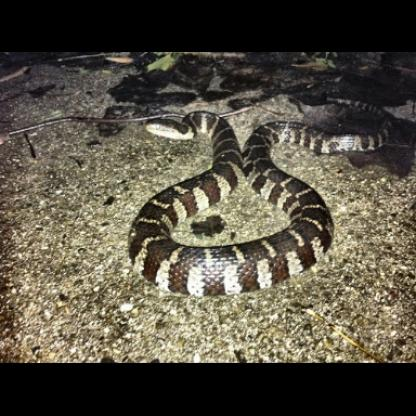Snake: (128, 96, 371, 312)
